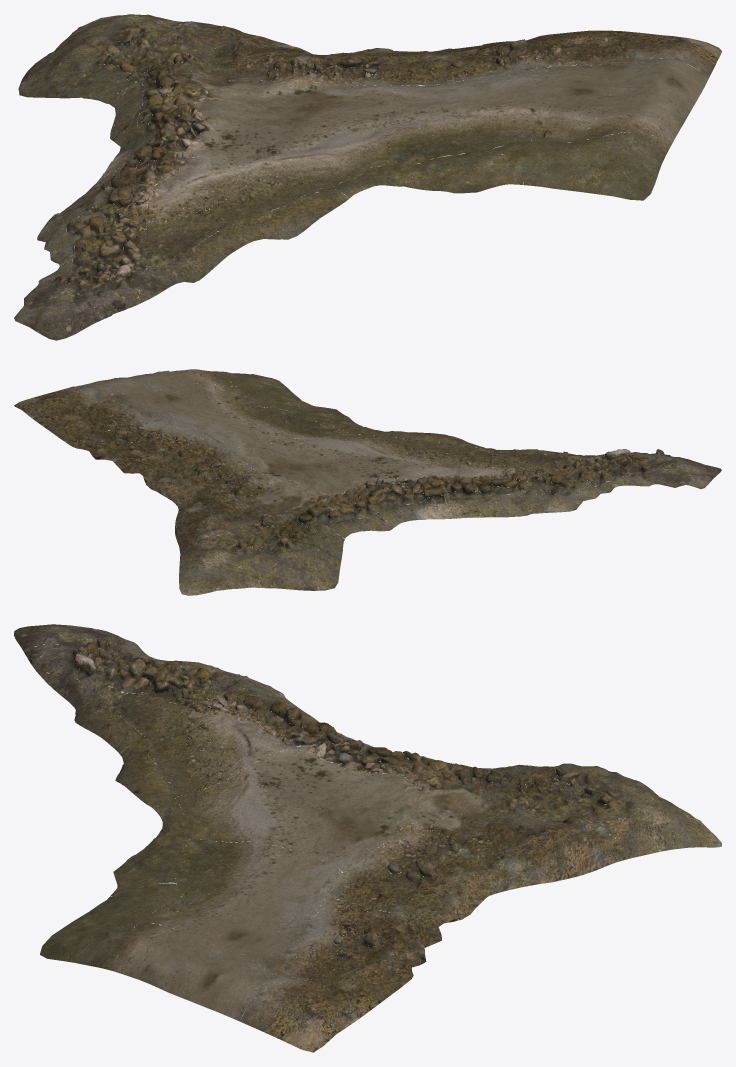
The model's file is coast_rocks_01.glb.
3 renders of one model, top to bottom at view 1: azimuth 30°, elevation 25°; view 2: azimuth 150°, elevation 25°; view 3: azimuth 270°, elevation 25°, orthographic. The views are drawn at different scales.
Visible parts, largest first — view 1: coast_rocks_01; view 2: coast_rocks_01; view 3: coast_rocks_01.
Part boxes in pixels (box(x1,y1,x2,y2)): coast_rocks_01: box(14, 14, 721, 340); coast_rocks_01: box(14, 369, 721, 595); coast_rocks_01: box(14, 624, 721, 1052).
Size of the model in its own units: 59.5 by 3.3 by 42.52.
Materials: 1 (1 with a texture image).
